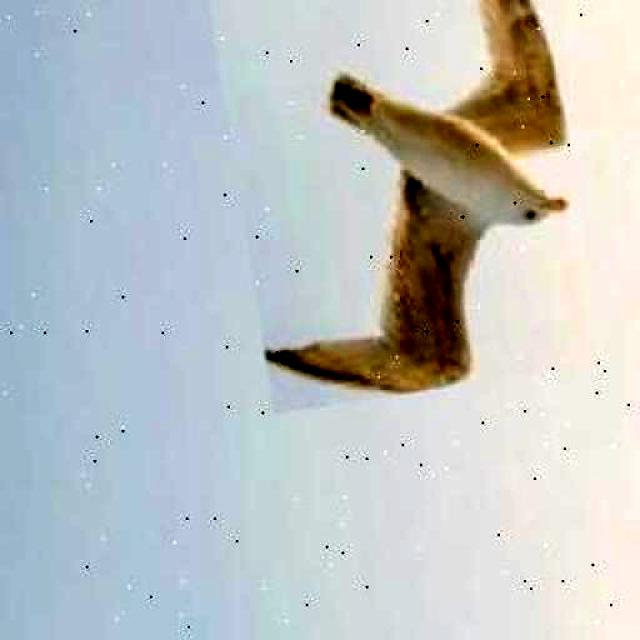airplane: (196, 0, 606, 414)
